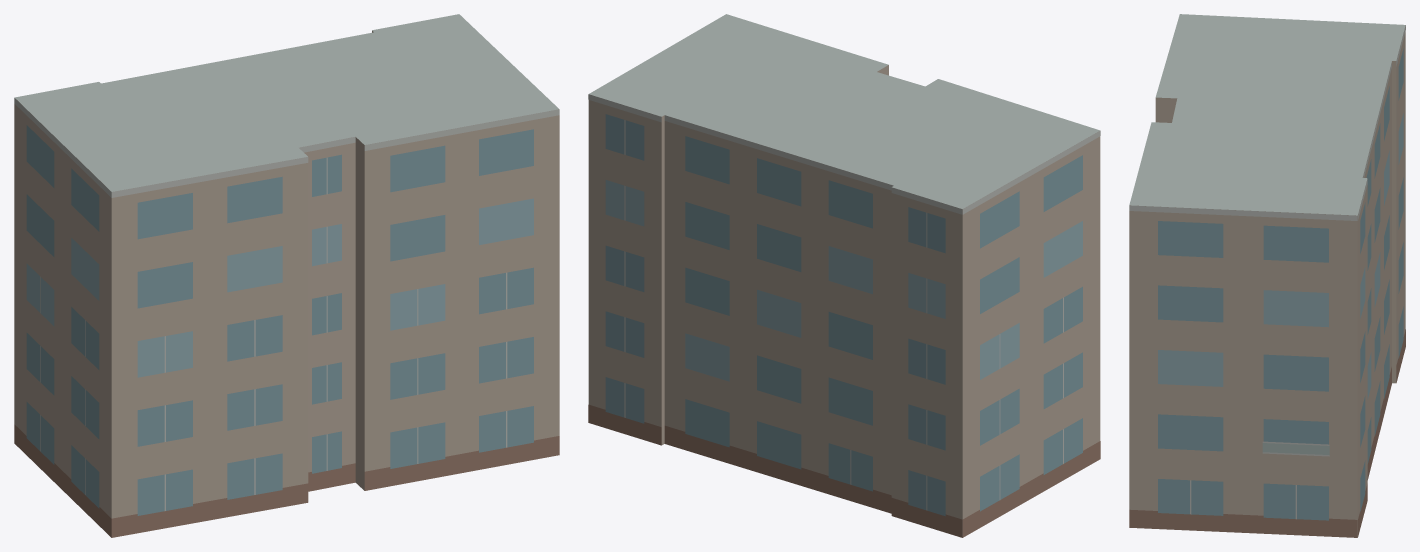
File: survey-upis-32669123.glb
The picture shows the model from 3 angles, left to right: view 1: azimuth 30°, elevation 25°; view 2: azimuth 150°, elevation 25°; view 3: azimuth 270°, elevation 25°; orthographic projection. The views are drawn at different scales.
Parts seen in each view (by area): view 1: survey-upis-32669123.tmp; view 2: survey-upis-32669123.tmp; view 3: survey-upis-32669123.tmp.
Boxes of the visible parts, box(x1,y1,x2,y2) form: survey-upis-32669123.tmp: box(14, 14, 559, 537); survey-upis-32669123.tmp: box(588, 14, 1100, 537); survey-upis-32669123.tmp: box(1129, 14, 1405, 537).
Bounding box in the file's own units: 18.91 × 14.1 × 10.97.
